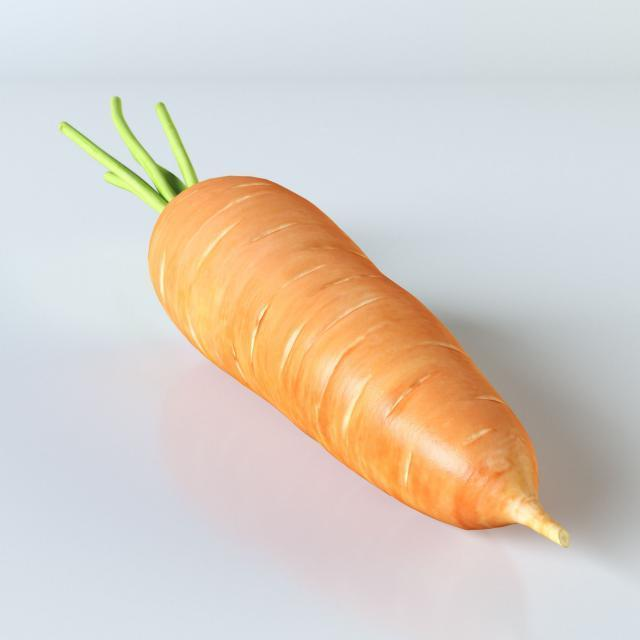carrot: (138, 173, 584, 548)
